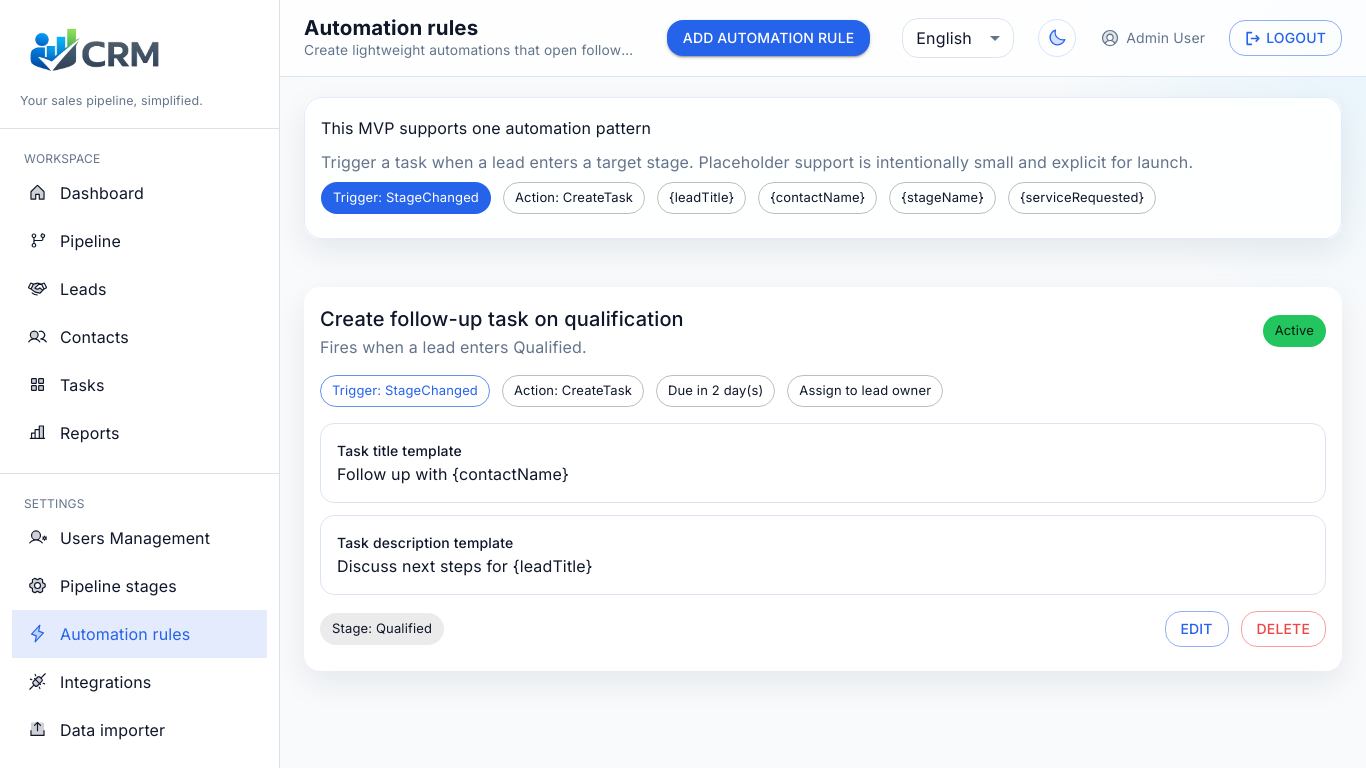
Scenario: Automation feature › shows delete confirmation before removing a rule
Expected: the heading "Automation rules" is shown, x1=304 y1=15 x2=478 y2=40
Click the button "Delete" at coordinates (1283, 629), box x1=1241 y1=611 x2=1326 y2=647
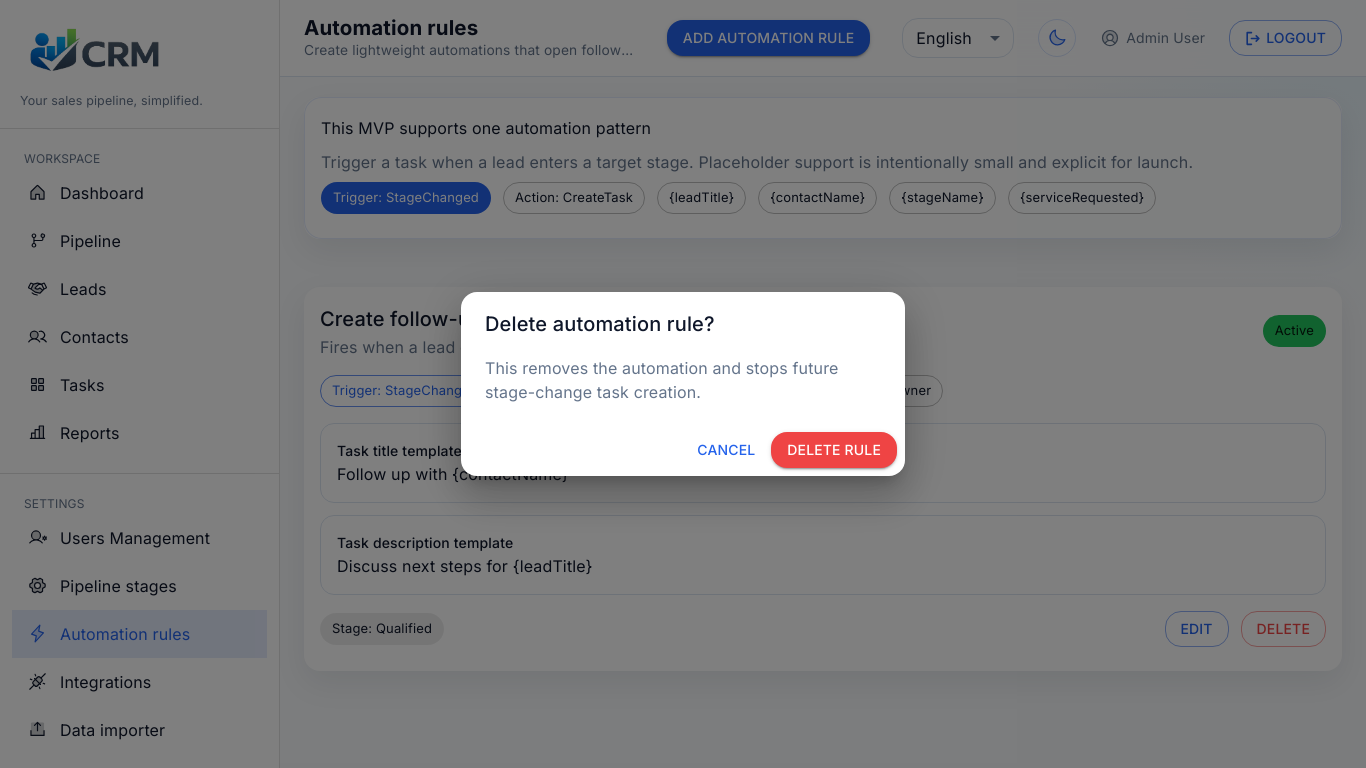
Now the dialog "Delete automation rule?" is shown, box x1=461 y1=292 x2=905 y2=476
Click the button "Delete rule" at coordinates (834, 450), box x1=771 y1=432 x2=897 y2=468
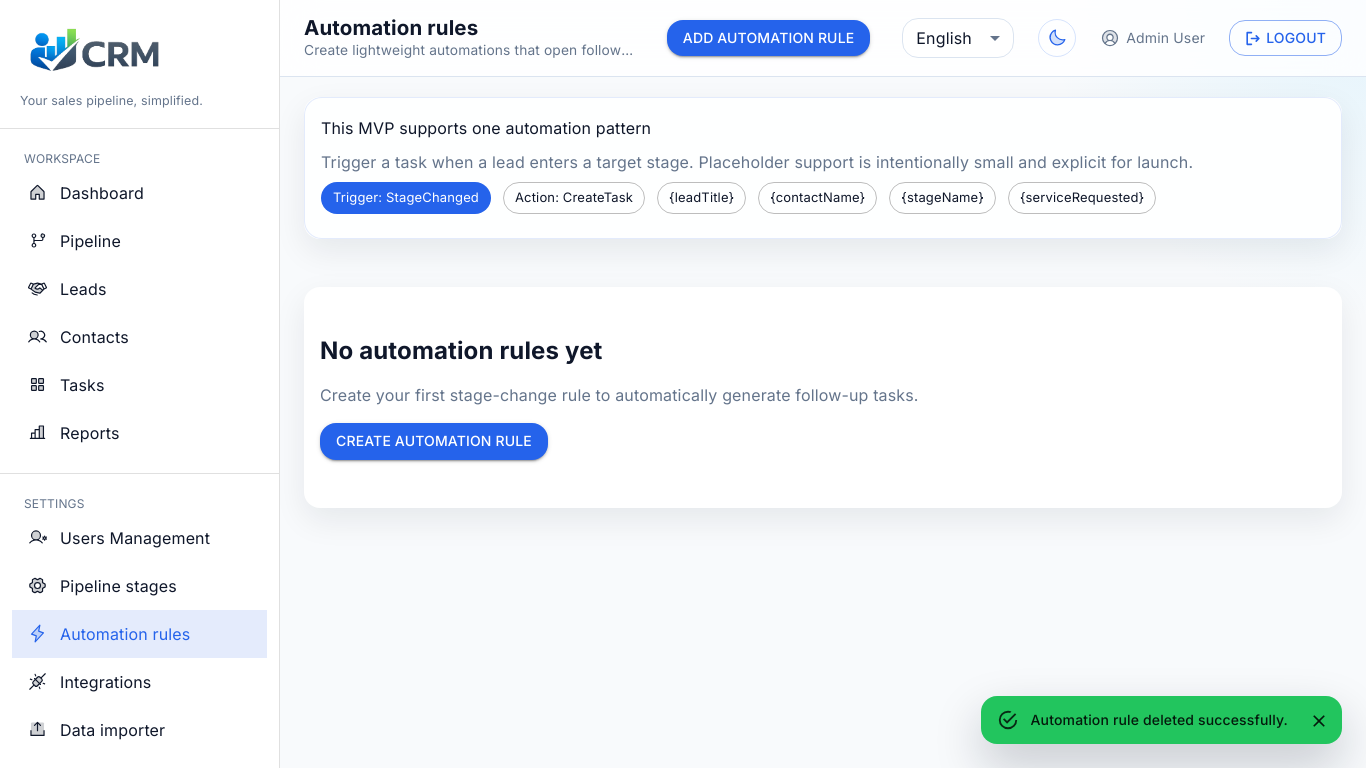
Now the text "Automation rule deleted successfully." is shown, box x1=1030 y1=711 x2=1288 y2=728
Now the heading "Create follow-up task on qualification" is gone
